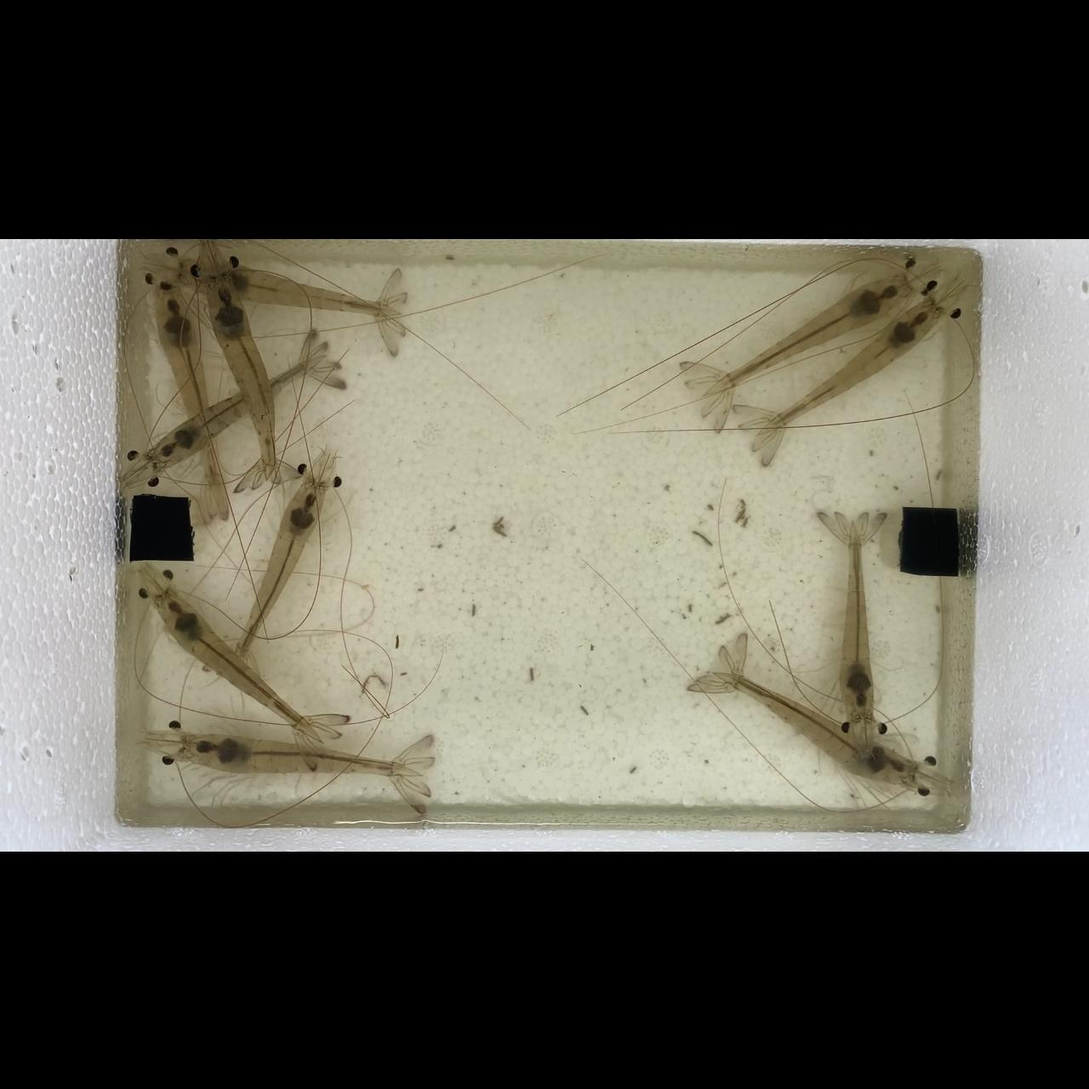box: (898, 506, 968, 576), (129, 493, 194, 560)
top_shrimp: (155, 587, 323, 743), (755, 299, 940, 435), (702, 276, 908, 394), (713, 672, 911, 784), (149, 357, 328, 468), (230, 483, 324, 674), (154, 288, 220, 508), (206, 274, 277, 478), (177, 259, 403, 315), (183, 732, 423, 777), (839, 522, 873, 722)
